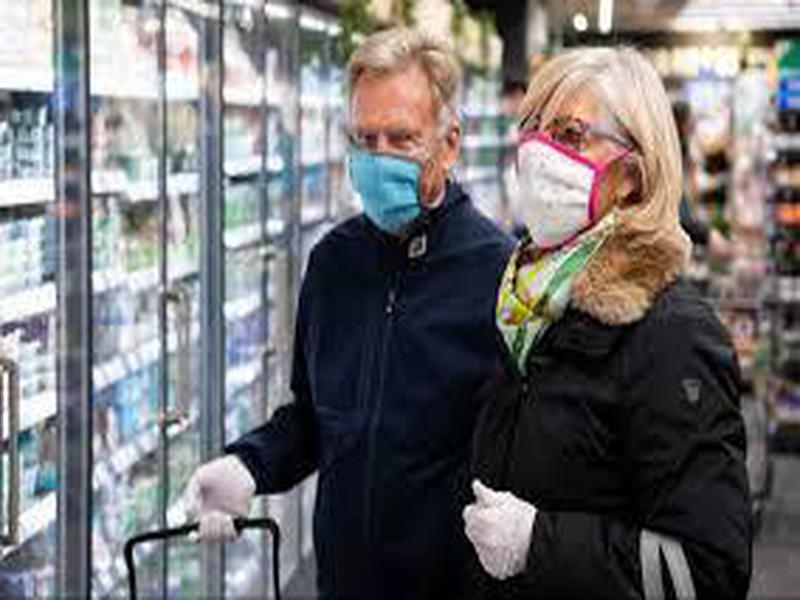with_mask: (515, 44, 684, 251), (341, 23, 469, 232)
